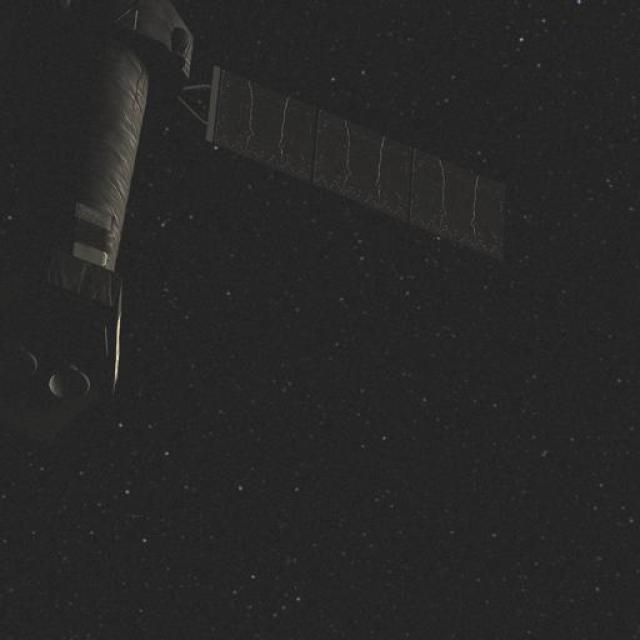xmm_newton: (5, 0, 485, 410)
